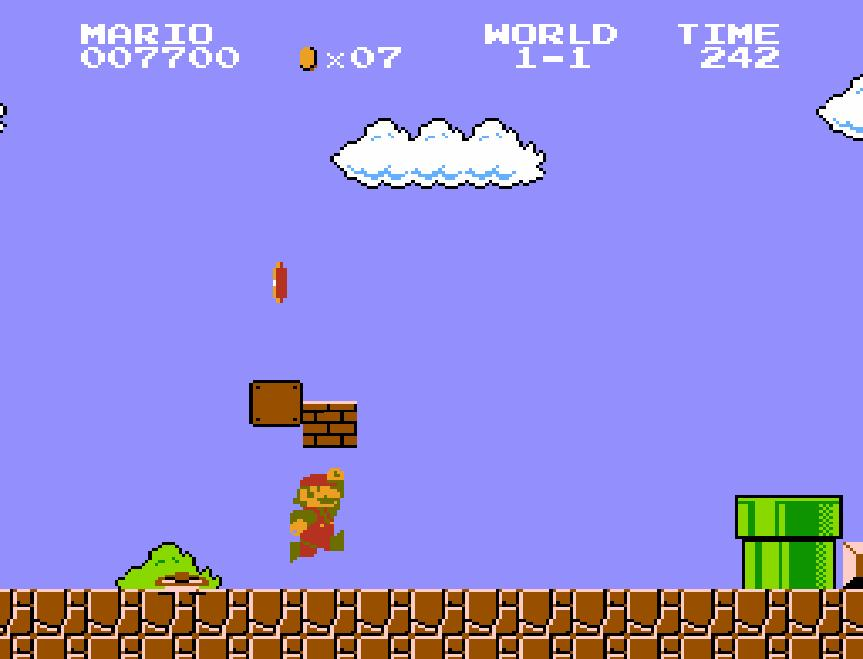big_mario: (288, 466, 346, 564)
